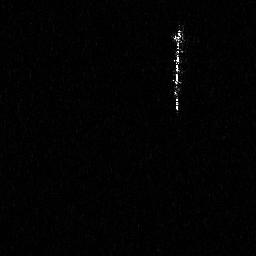ship: (172, 22, 184, 114)
